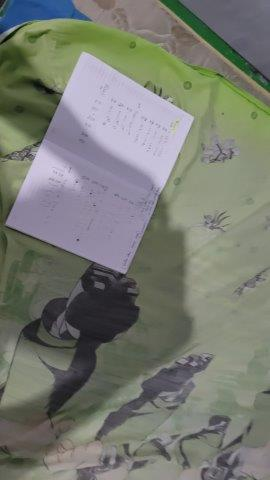kertas: (5, 49, 195, 274)
